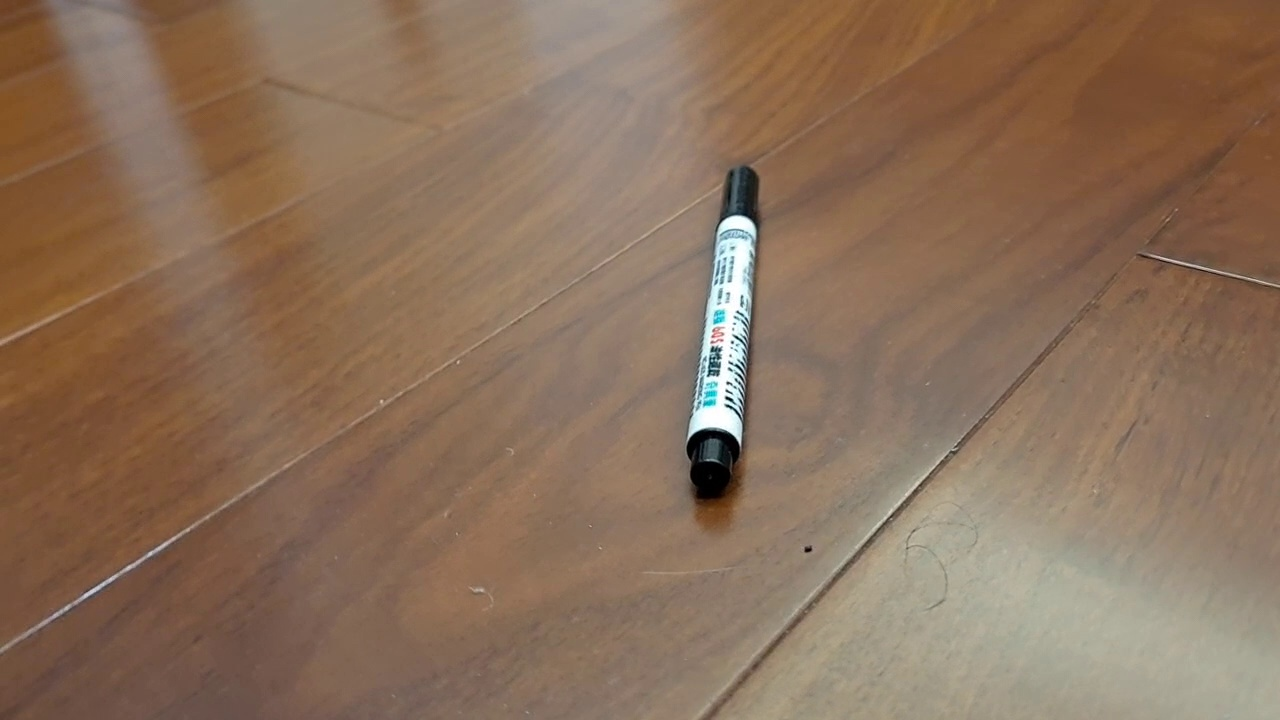pen: (685, 163, 761, 498)
